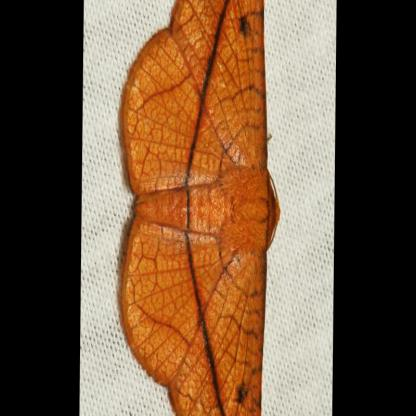Leaf Webber: (119, 0, 285, 415)
